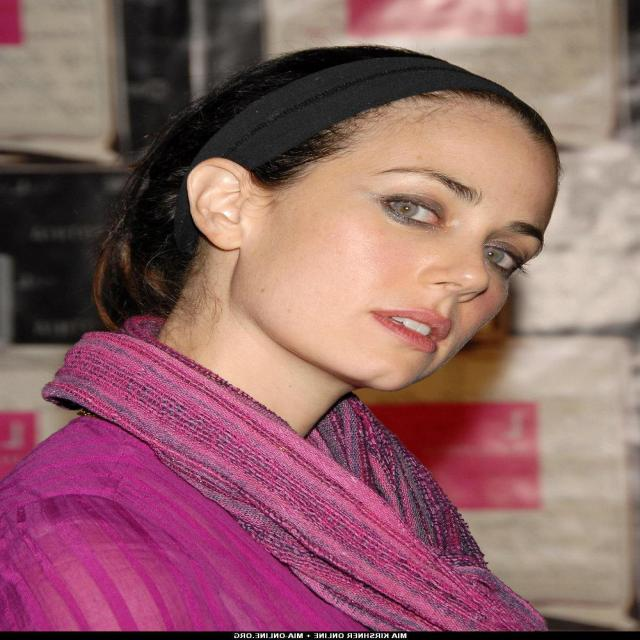no-earmuff: (154, 144, 282, 264)
